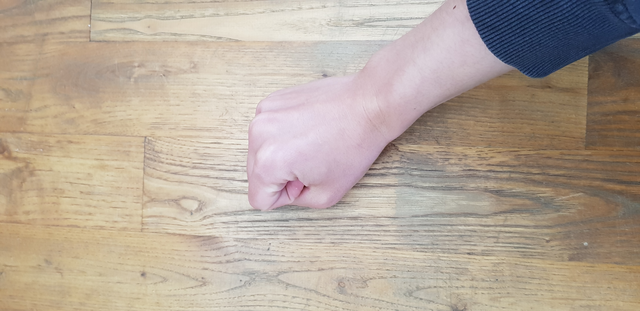Rock: (229, 58, 418, 239)
